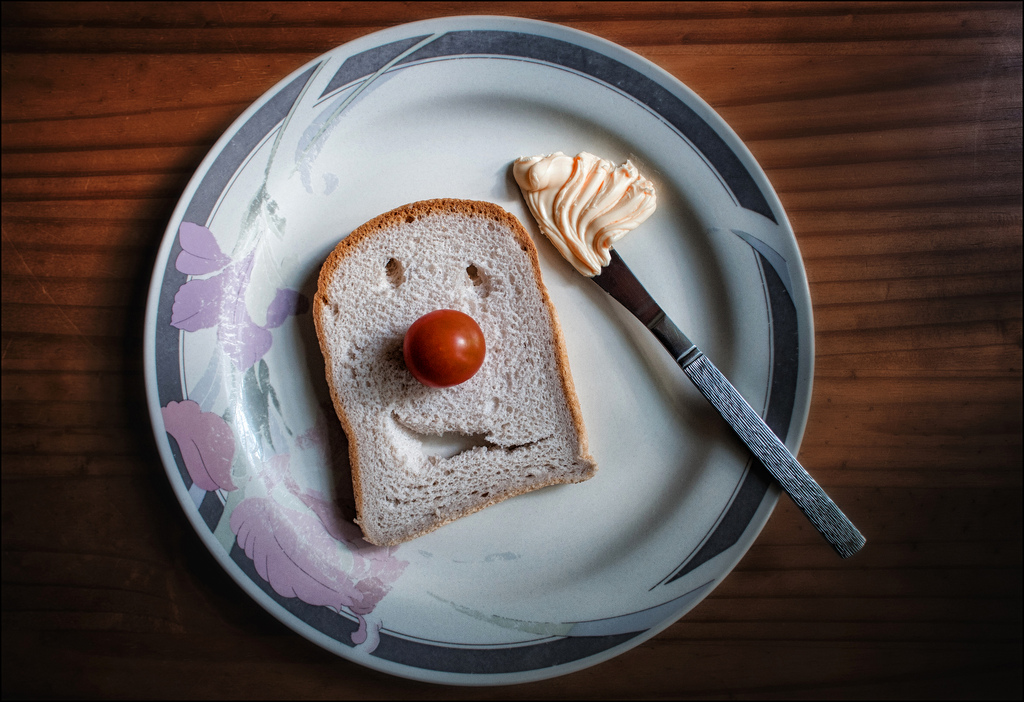slice of bread: (305, 205, 605, 546)
